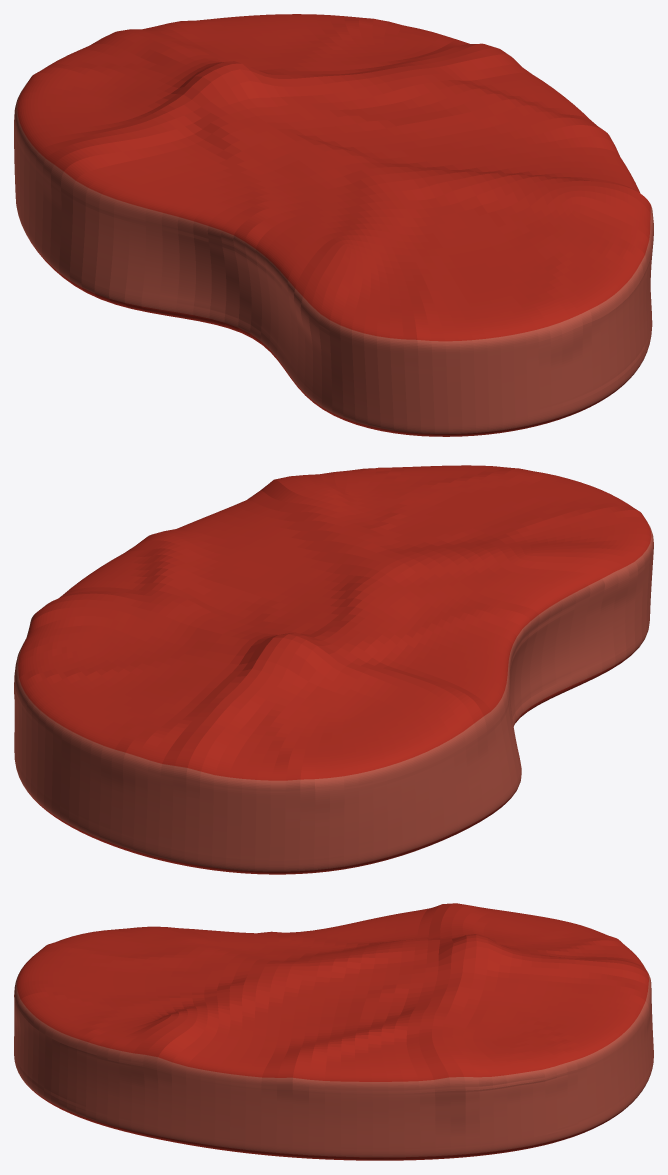
The model's file is Et Parçası.fbx.
The picture shows the model from 3 angles, top to bottom: view 1: azimuth 30°, elevation 25°; view 2: azimuth 150°, elevation 25°; view 3: azimuth 270°, elevation 25°; orthographic projection. The views are drawn at different scales.
Visible parts, largest first — view 1: Cube; view 2: Cube; view 3: Cube.
Part boxes in pixels (<box>): Cube: <box>14,14,653,436</box>; Cube: <box>14,465,653,874</box>; Cube: <box>14,903,653,1160</box>.
Bounding box in the file's own units: 164 × 55.11 × 251.
